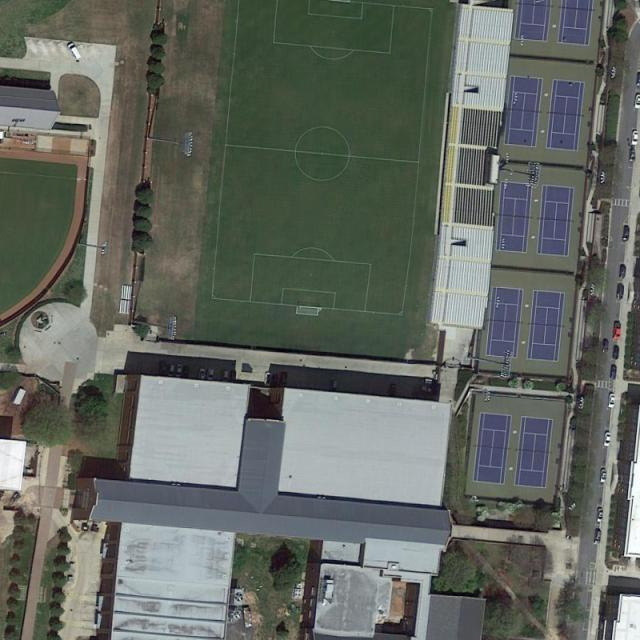vehicle: (66, 41, 82, 61), (613, 322, 622, 342), (616, 283, 625, 301), (603, 431, 613, 447), (618, 264, 627, 281), (596, 507, 605, 524), (264, 371, 273, 388), (622, 226, 631, 242), (607, 393, 616, 409), (594, 530, 603, 546), (389, 384, 398, 400), (420, 386, 434, 396), (612, 346, 621, 361), (600, 467, 608, 483), (182, 366, 190, 381), (610, 365, 618, 380), (279, 372, 287, 387), (632, 130, 639, 146), (198, 368, 206, 382), (602, 340, 610, 354), (629, 150, 637, 163), (207, 369, 214, 383), (331, 380, 338, 394), (272, 374, 279, 388), (161, 361, 167, 377), (169, 365, 176, 378), (222, 370, 229, 383), (421, 378, 434, 385), (229, 372, 236, 384), (176, 365, 182, 378)
